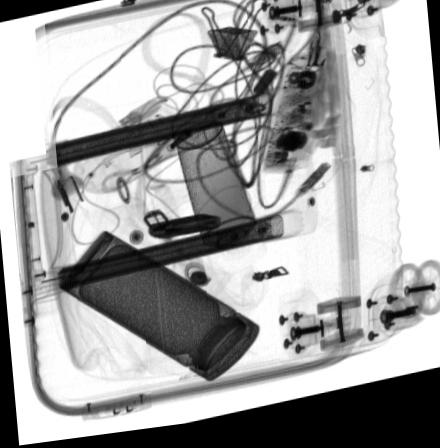Lighter: (147, 219, 220, 244)
Sprayer: (173, 127, 267, 283)
